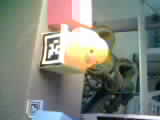duck: (64, 19, 110, 74)
